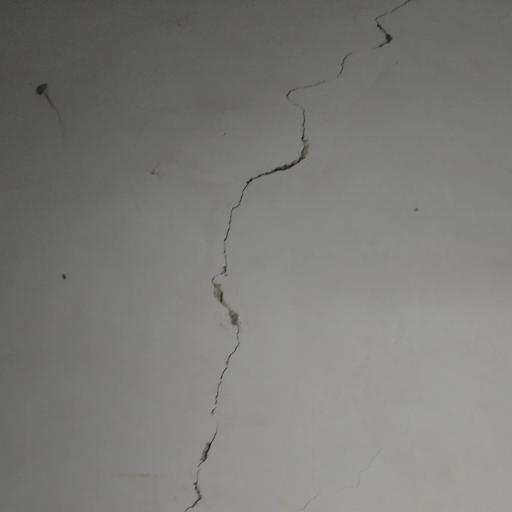major_crack: (179, 0, 414, 512)
